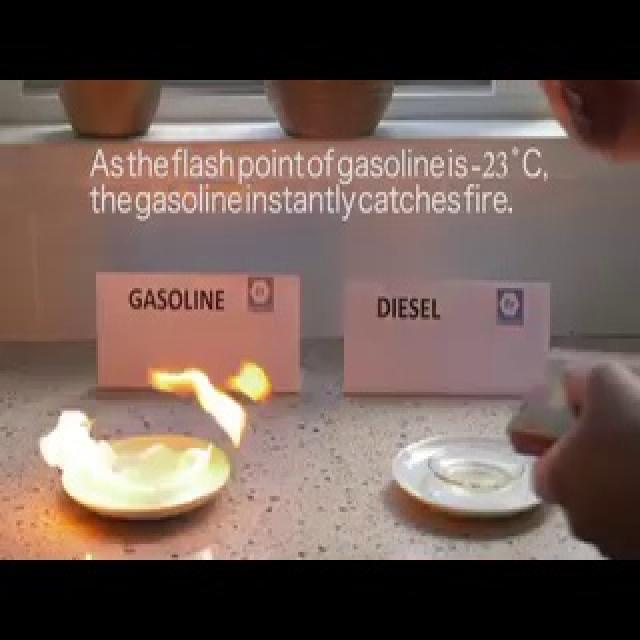fire: (36, 400, 220, 511), (149, 358, 250, 453), (228, 358, 275, 408)
